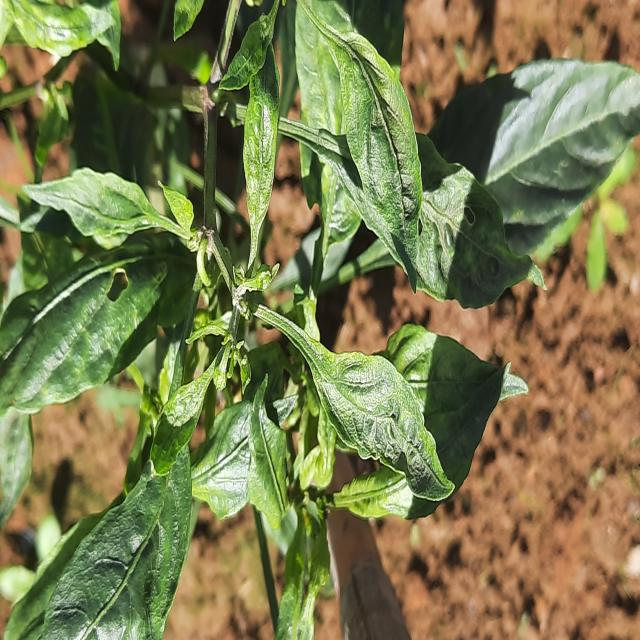thrips: (256, 306, 486, 498), (316, 17, 429, 296), (236, 65, 290, 269), (146, 358, 227, 478)
